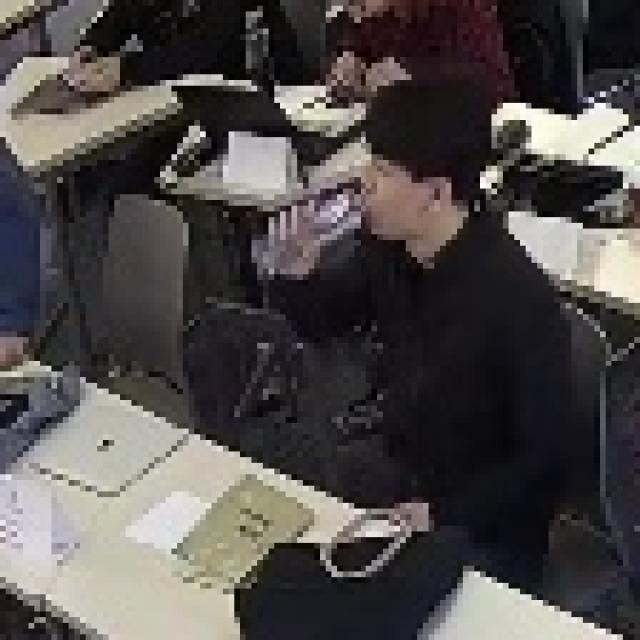drink: (245, 59, 551, 492)
